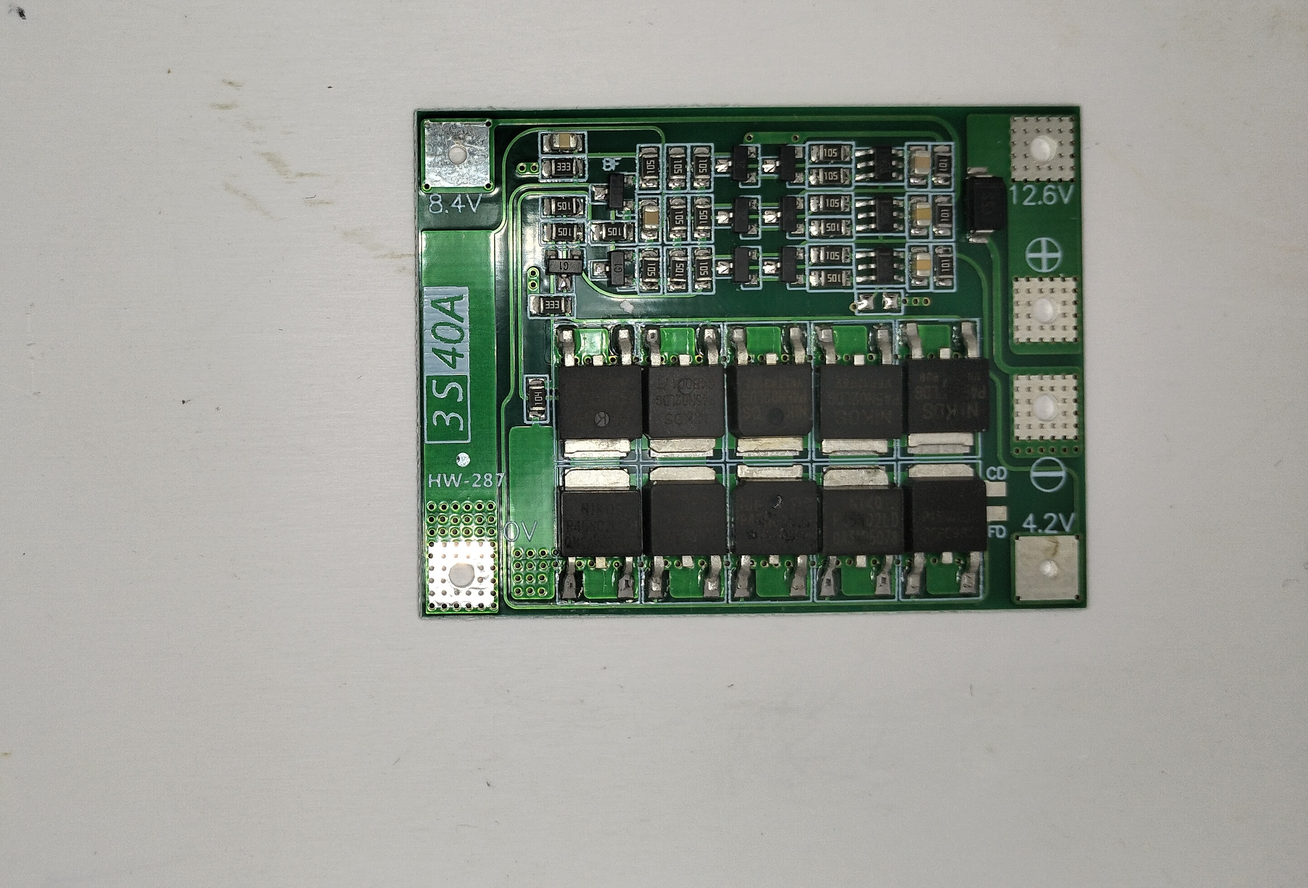C: (636, 199, 659, 242), (907, 142, 930, 185), (912, 245, 934, 288), (909, 195, 931, 238), (540, 133, 585, 153)
R 105: (665, 247, 690, 295), (692, 143, 717, 191), (636, 146, 661, 193), (637, 248, 662, 295), (689, 248, 714, 295), (690, 197, 715, 244), (667, 197, 692, 244), (664, 145, 689, 192), (804, 167, 848, 187), (810, 194, 854, 214), (810, 218, 854, 238), (809, 246, 853, 266), (810, 270, 854, 290), (542, 198, 585, 218), (811, 144, 854, 164), (541, 223, 584, 243), (592, 224, 635, 243)
R EEE: (539, 159, 586, 181), (528, 295, 573, 317)
R101: (931, 144, 954, 191), (934, 245, 957, 292), (931, 193, 954, 240)
R104: (525, 376, 549, 420)
diode: (964, 165, 1006, 246)
ic 1: (817, 465, 904, 603), (816, 323, 903, 461), (555, 325, 641, 463), (904, 464, 990, 602), (731, 465, 817, 603), (642, 466, 728, 604), (554, 465, 640, 603), (731, 321, 817, 459), (904, 318, 990, 455), (641, 329, 727, 466)
ic 2: (856, 148, 903, 184), (858, 198, 905, 234), (860, 249, 906, 285)
transitor: (717, 143, 763, 189), (588, 249, 634, 295), (716, 243, 762, 289), (717, 194, 763, 240), (540, 247, 585, 293), (590, 168, 635, 214), (760, 246, 805, 292), (764, 194, 809, 240), (761, 142, 806, 188)
